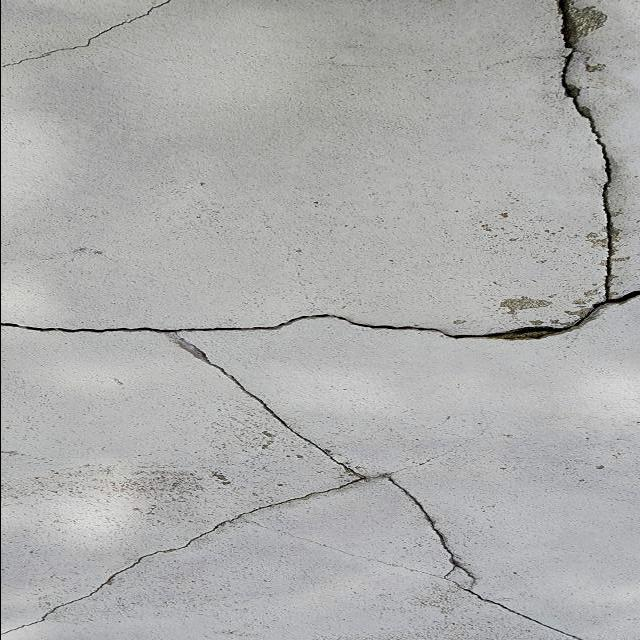SurfaceCrack: (4, 317, 639, 640), (1, 0, 590, 100), (526, 0, 639, 284)
